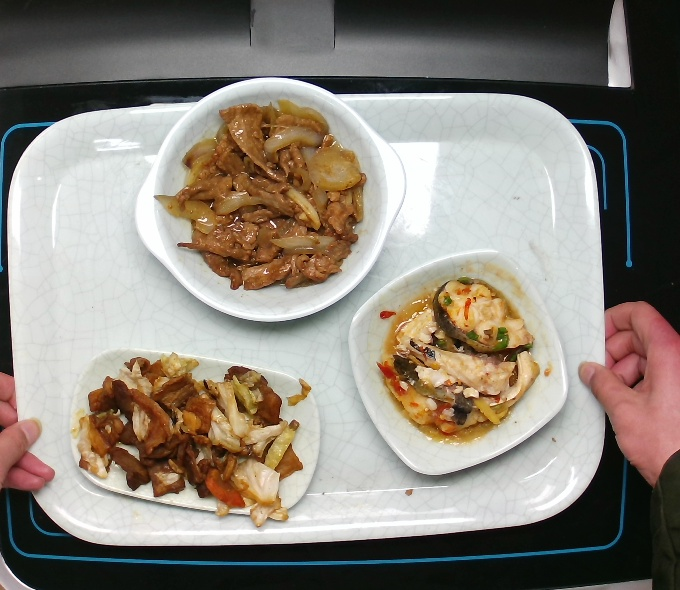wcq-DuoJiaoYuKuai: (375, 271, 539, 449)
wcq-PaoCaiRouPian: (79, 353, 314, 517)
wcq-YangCongRouPian: (169, 99, 370, 292)
